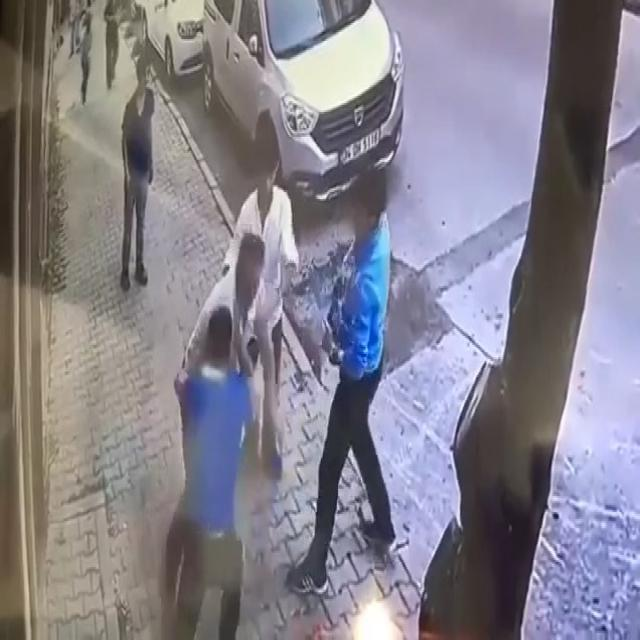fight: (174, 227, 278, 640)
